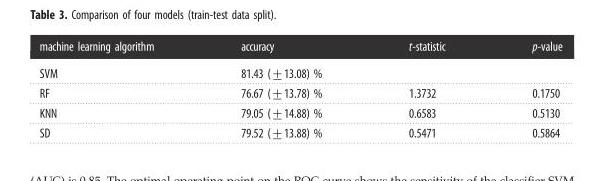table: (38, 38, 561, 140)
table column: (196, 38, 364, 140), (38, 38, 196, 140), (364, 38, 488, 140), (488, 38, 561, 140)
table column header: (38, 38, 561, 59)
table row: (38, 59, 561, 83), (38, 38, 561, 59), (38, 83, 561, 103), (38, 103, 561, 122), (38, 122, 561, 140)
